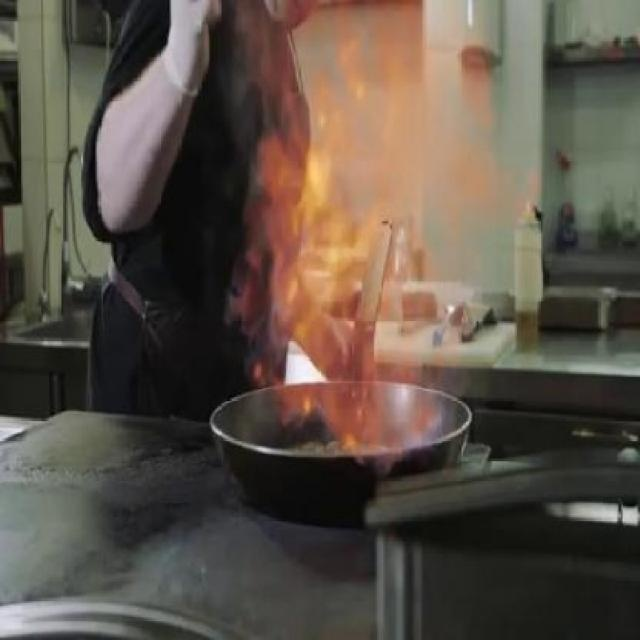fire: (241, 0, 472, 463)
